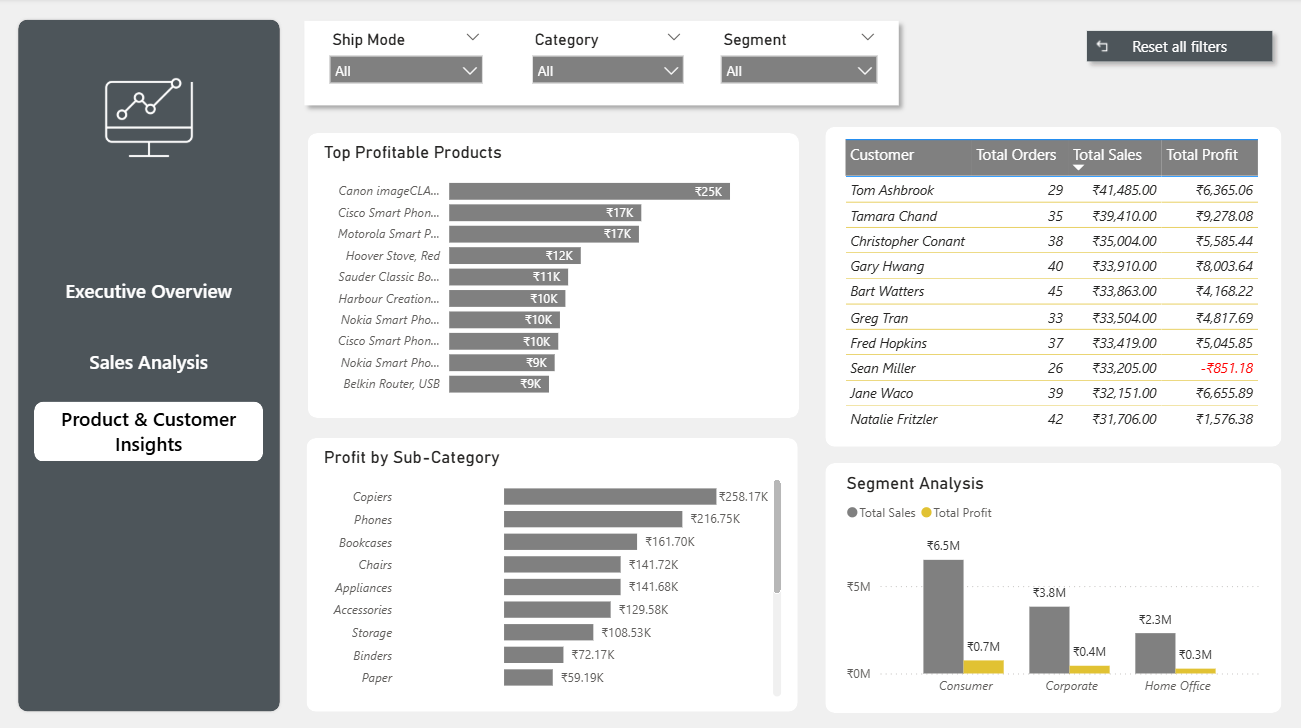

This screenshot's page, from the dashboard's own definition file:
{"tool":"powerbi","page":{"name":"Product & Customer Insights","canvas":[1280,720],"ordinal":2},"visuals":[{"type":"shape","box":[16,18.4,262.6,684.7],"z":0},{"type":"pageNavigator","box":[34.4,257.7,225.8,198.8],"z":1000},{"type":"image","box":[57.7,71.2,179.1,89.6],"z":2000},{"type":"shape","box":[303.1,132.5,482.2,279.8],"z":3000},{"type":"clusteredBarChart","title":"Top Profitable Products","fields":{"Y":["_Measures.Total Profit"],"Category":["cleaned_dataset.product_name"]},"box":[314.1,141.1,458.9,260.1],"z":4000},{"type":"shape","box":[811,126.4,447.9,314.1],"z":5000},{"type":"tableEx","fields":{"Values":["cleaned_dataset.customer_name","_Measures.Total Orders","_Measures.Total Sales","_Measures.Total Profit"]},"box":[824.5,133.7,428.2,298.2],"z":6000},{"type":"shape","box":[290.8,13.8,601.2,100.6],"z":7000},{"type":"slicer","fields":{"Values":["cleaned_dataset.ship_mode"]},"box":[314.1,27.3,170.6,72.4],"z":8000},{"type":"slicer","fields":{"Values":["cleaned_dataset.category"]},"box":[512.9,27.3,169.3,72.4],"z":9000},{"type":"slicer","fields":{"Values":["cleaned_dataset.segment"]},"box":[698.2,27.3,174.2,72.4],"z":10000},{"type":"actionButton","box":[1058.9,23.3,200,47.9],"z":11000},{"type":"shape","box":[301.8,431.9,482.2,268.7],"z":12000},{"type":"clusteredBarChart","title":"Profit by Sub-Category","fields":{"Y":["_Measures.Total Profit"],"Category":["cleaned_dataset.sub_category"]},"box":[314.1,440.5,458.9,250.3],"z":13000},{"type":"shape","box":[811,456.4,447.9,245.4],"z":14000},{"type":"clusteredColumnChart","title":"Segment Analysis","fields":{"Category":["cleaned_dataset.segment"],"Y":["Sum(cleaned_dataset.sales)","_Measures.Total Profit"]},"box":[827,466.3,418.4,227],"z":15000}]}

Visuals, with their boxes in screenshot pixels (x1, y1, x2, y2), scaled from the page's 1280x720 canvas onto the 1301x728 screenshot:
shape: <region>16, 19, 283, 711</region>
pageNavigator: <region>35, 261, 264, 462</region>
image: <region>59, 72, 241, 163</region>
shape: <region>308, 134, 798, 417</region>
"Top Profitable Products" clusteredBarChart: <region>319, 143, 786, 406</region>
shape: <region>824, 128, 1280, 445</region>
tableEx - cleaned_dataset.customer_name x _Measures.Total Orders: <region>838, 135, 1273, 437</region>
shape: <region>296, 14, 907, 116</region>
slicer - cleaned_dataset.ship_mode: <region>319, 28, 493, 101</region>
slicer - cleaned_dataset.category: <region>521, 28, 693, 101</region>
slicer - cleaned_dataset.segment: <region>710, 28, 887, 101</region>
actionButton: <region>1076, 24, 1280, 72</region>
shape: <region>307, 437, 797, 708</region>
"Profit by Sub-Category" clusteredBarChart: <region>319, 445, 786, 698</region>
shape: <region>824, 461, 1280, 710</region>
"Segment Analysis" clusteredColumnChart: <region>841, 471, 1266, 701</region>
